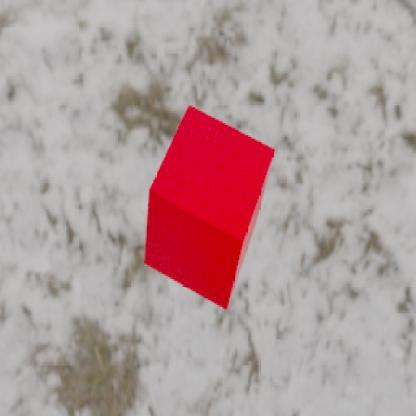cube: (143, 104, 274, 310)
